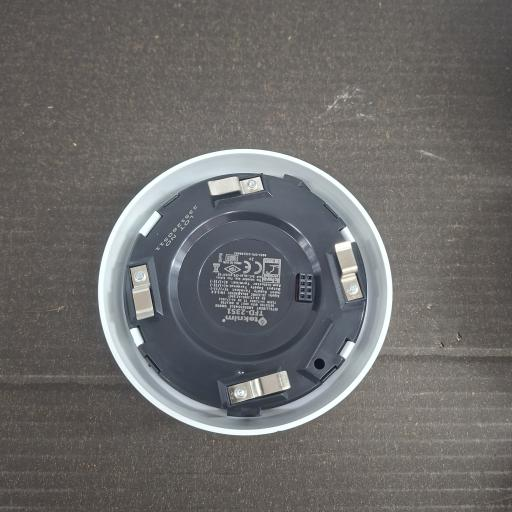yaysiz: (216, 367, 286, 414), (326, 242, 366, 311), (125, 256, 164, 326), (208, 175, 266, 198)
